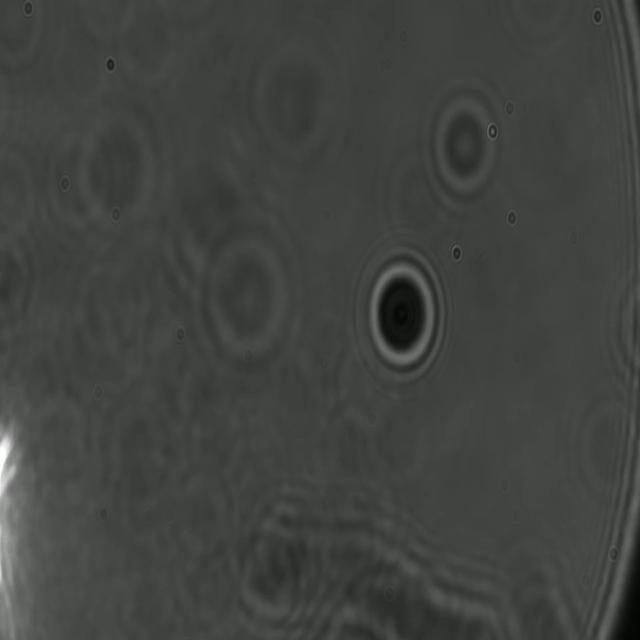DCELL: (362, 250, 444, 383)
